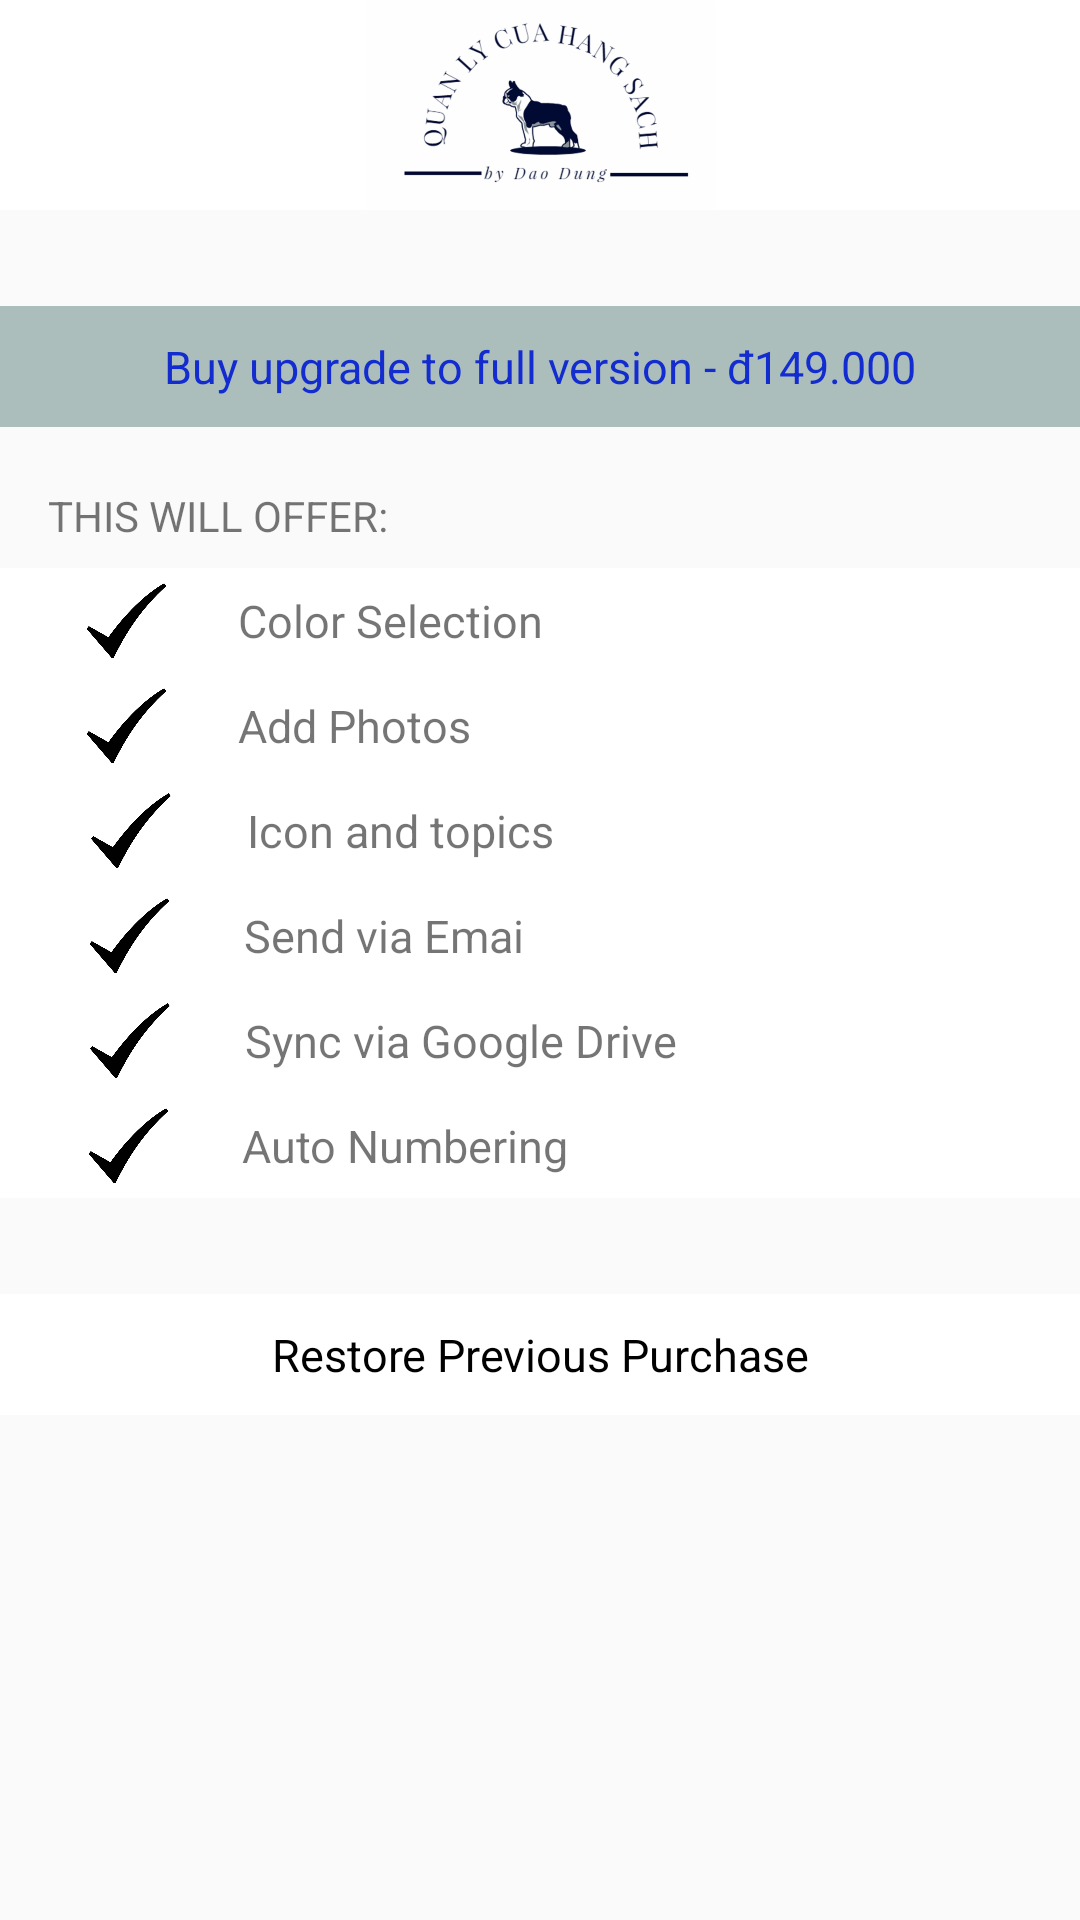

Icon bounding boxes for this 1080*1920 phone screenshot, format (x1, y1, x2, y2):
done: (87, 583, 166, 658), (87, 688, 166, 763), (91, 793, 171, 868), (90, 898, 169, 973), (90, 1003, 170, 1078), (89, 1108, 168, 1183)
